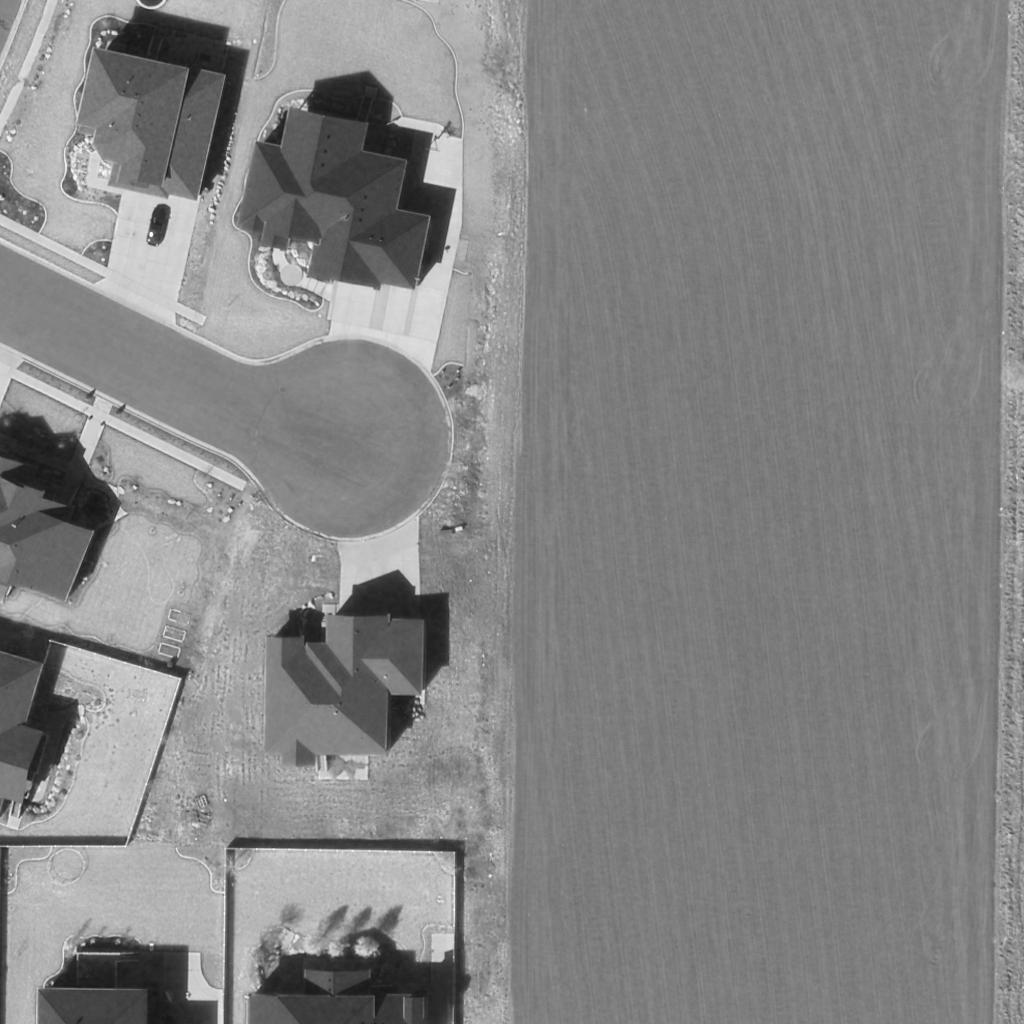vehicle: (146, 209, 168, 247)
